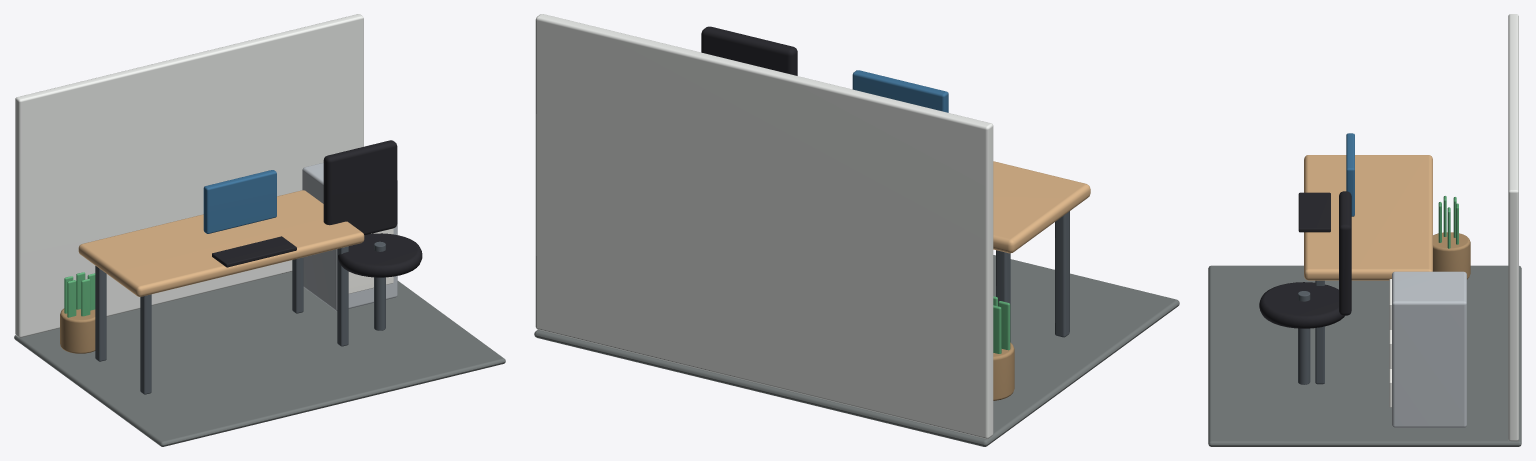
The model's file is office.glb.
The picture shows the model from 3 angles, left to right: view 1: azimuth 30°, elevation 25°; view 2: azimuth 150°, elevation 25°; view 3: azimuth 270°, elevation 25°; orthographic projection. The views are drawn at different scales.
Parts seen in each view (by area): view 1: partition wall, low office carpet, desk top, chair back, office monitor, file cabinet, chair seat, plant pot, keyboard, desk leg, desk leg.001, desk leg.002 (+3 smaller); view 2: partition wall, low office carpet, desk top, chair back, office monitor, desk leg, plant pot, desk leg.001; view 3: low office carpet, desk top, file cabinet, partition wall, chair seat, chair back, plant pot, keyboard, chair gas lift, desk leg.002, office monitor.
Boxes of the visible parts, x1=… form: partition wall: x1=15, y1=14, x2=363, y2=337; low office carpet: x1=14, y1=271, x2=505, y2=446; desk top: x1=78, y1=190, x2=364, y2=296; chair back: x1=323, y1=140, x2=397, y2=235; office monitor: x1=203, y1=170, x2=276, y2=233; file cabinet: x1=302, y1=163, x2=397, y2=310; chair seat: x1=338, y1=233, x2=422, y2=277; plant pot: x1=60, y1=308, x2=95, y2=353; keyboard: x1=212, y1=236, x2=296, y2=267; desk leg: x1=140, y1=294, x2=151, y2=394; desk leg.001: x1=95, y1=266, x2=106, y2=361; desk leg.002: x1=337, y1=246, x2=348, y2=346; partition wall: x1=535, y1=14, x2=993, y2=438; low office carpet: x1=534, y1=255, x2=1179, y2=446; desk top: x1=993, y1=161, x2=1090, y2=253; chair back: x1=701, y1=26, x2=797, y2=75; office monitor: x1=852, y1=70, x2=948, y2=112; desk leg: x1=1055, y1=211, x2=1069, y2=337; plant pot: x1=993, y1=342, x2=1014, y2=400; desk leg.001: x1=996, y1=250, x2=1010, y2=341; low office carpet: x1=1208, y1=265, x2=1521, y2=446; desk top: x1=1304, y1=155, x2=1432, y2=280; file cabinet: x1=1392, y1=271, x2=1466, y2=427; partition wall: x1=1508, y1=14, x2=1518, y2=441; chair seat: x1=1259, y1=282, x2=1344, y2=328; chair back: x1=1339, y1=191, x2=1351, y2=315; plant pot: x1=1433, y1=232, x2=1470, y2=279; keyboard: x1=1298, y1=192, x2=1330, y2=232; chair gas lift: x1=1298, y1=291, x2=1310, y2=384; desk leg.002: x1=1315, y1=280, x2=1324, y2=384; office monitor: x1=1346, y1=133, x2=1354, y2=216.
Bounding box in the file's own units: 2.35 × 1.58 × 1.75.
